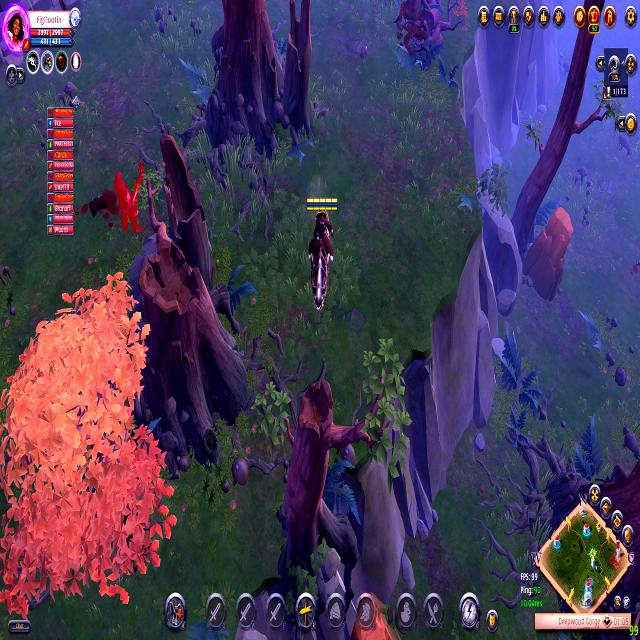ore: (109, 161, 157, 242)
red: (301, 192, 342, 314)
tree: (523, 203, 577, 304), (347, 583, 403, 640)
wisp caged: (0, 259, 175, 611)
